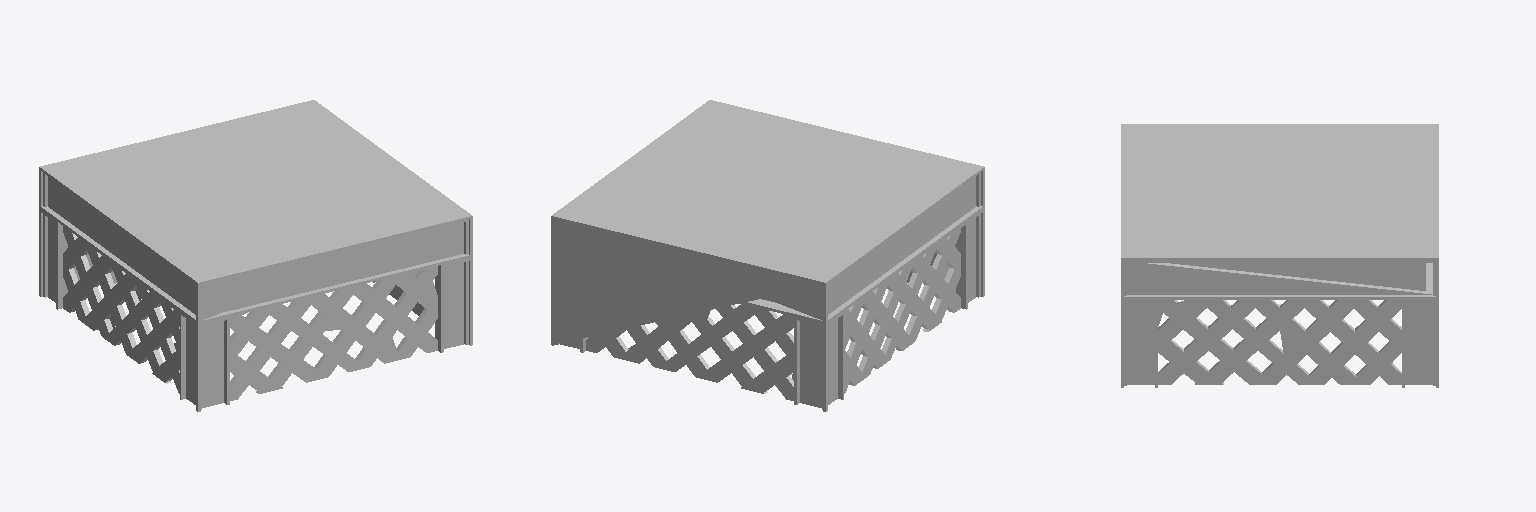
Rendered from Half_Crate__155008_.obj.
The picture shows the model from 3 angles: view 1: azimuth 30°, elevation 25°; view 2: azimuth 150°, elevation 25°; view 3: azimuth 270°, elevation 25°; orthographic projection.
Parts seen in each view (by area): view 1: Half_Crate__155008__temp_Half_Crate__155008_.004; view 2: Half_Crate__155008__temp_Half_Crate__155008_.004; view 3: Half_Crate__155008__temp_Half_Crate__155008_.004.
Part boxes in pixels (x1,y1,x2,y2): Half_Crate__155008__temp_Half_Crate__155008_.004: (39, 100, 472, 411); Half_Crate__155008__temp_Half_Crate__155008_.004: (551, 100, 984, 411); Half_Crate__155008__temp_Half_Crate__155008_.004: (1121, 124, 1438, 387).
Bounding box in the file's own units: 0.3334 × 0.15 × 0.3334.